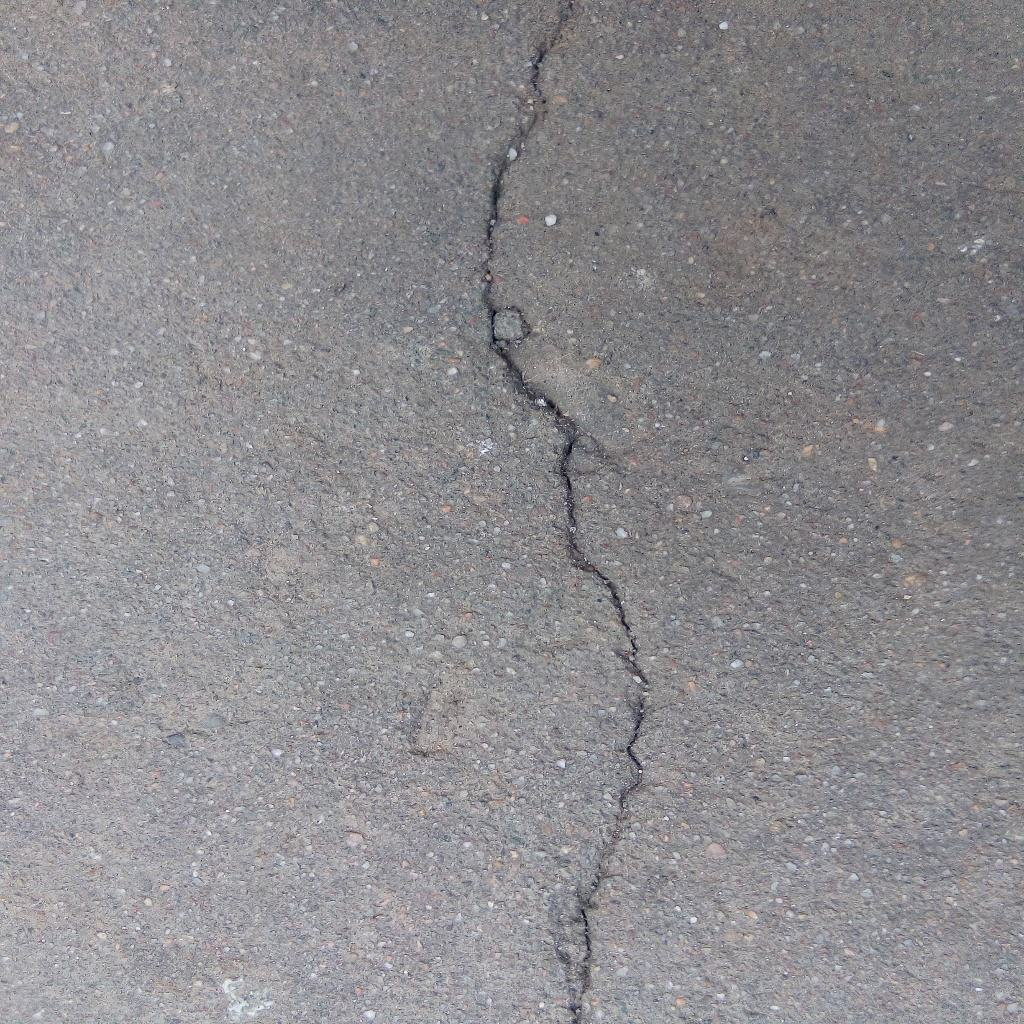Crack: (480, 1, 650, 1024)
